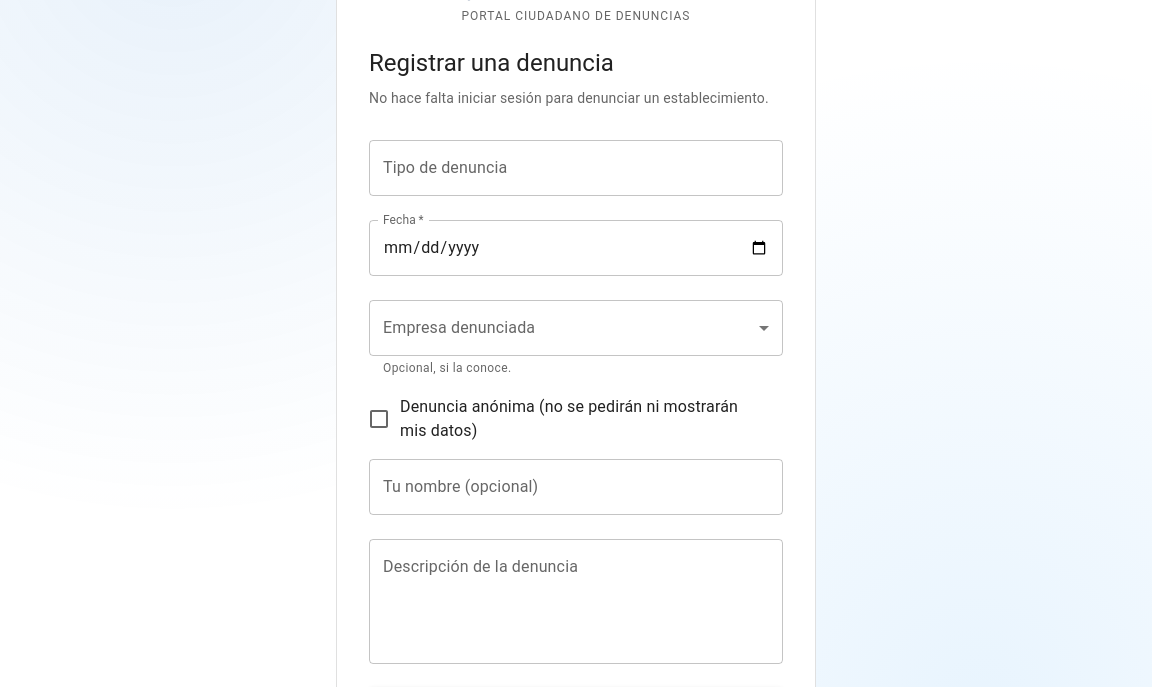
Test: DenunciaPublica › carga las empresas desde GET /empresas/publicas y las ofrece como opciones
(page scrolled)
Expected: the text "Opcional, si la conoce." is shown, [383,361,512,375]
Click the dropdown named "Empresa denunciada".
click(576, 328)  # box [369,300,783,356]
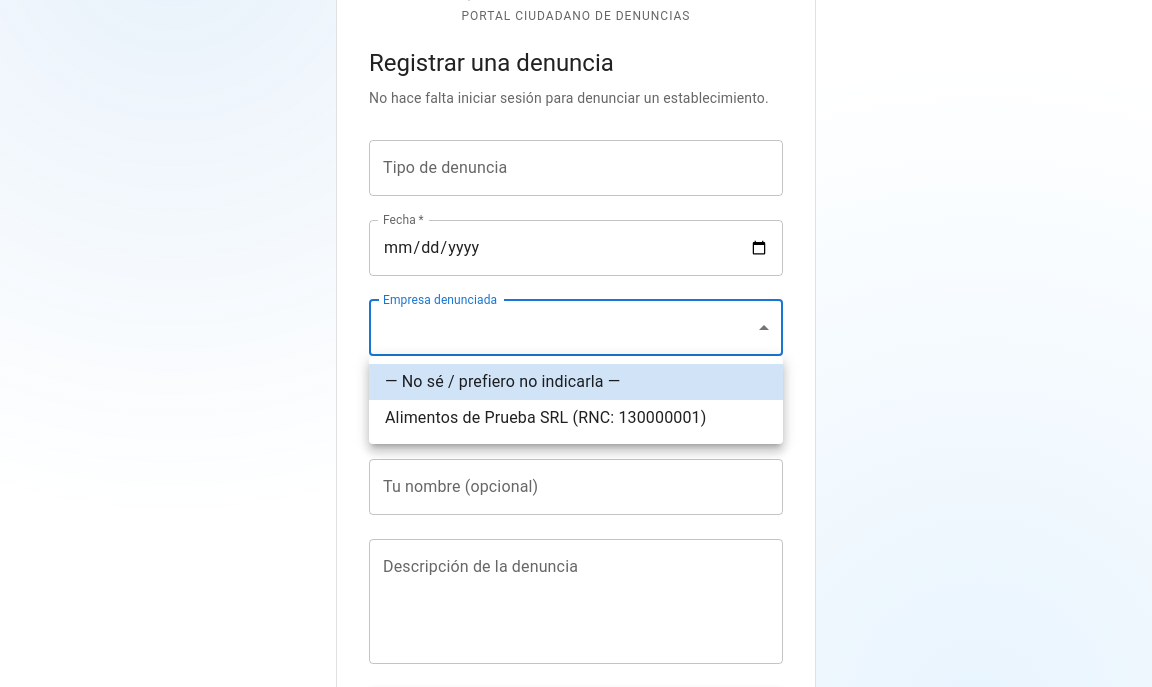
Expected: the option "Alimentos de Prueba SRL (RNC: 130000001)" is shown, [385,408,706,427]
